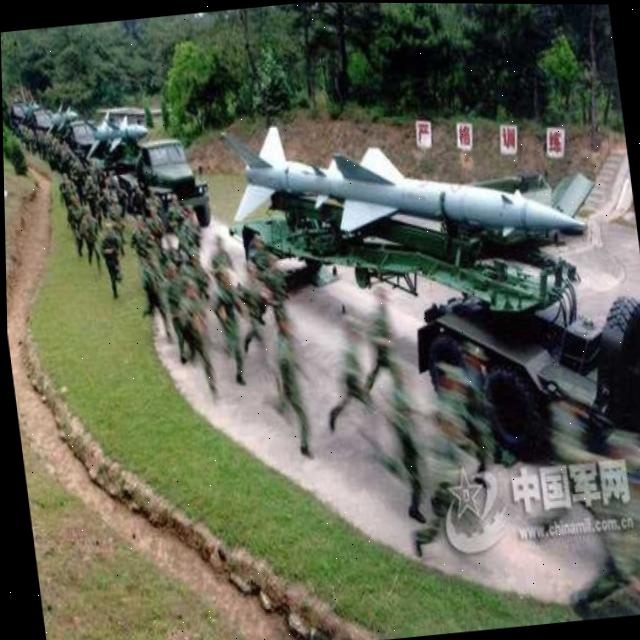missile: (219, 93, 585, 265), (79, 105, 151, 159), (49, 102, 80, 127)
